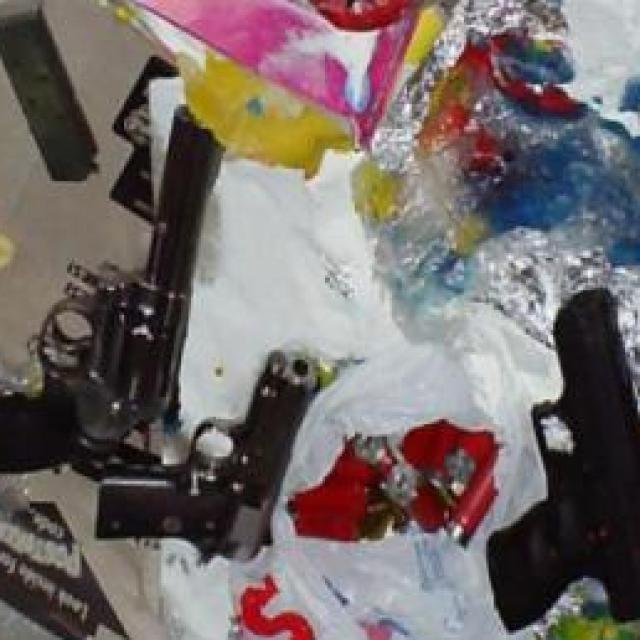pistol: (0, 111, 228, 484), (486, 285, 640, 635), (92, 355, 325, 568)
